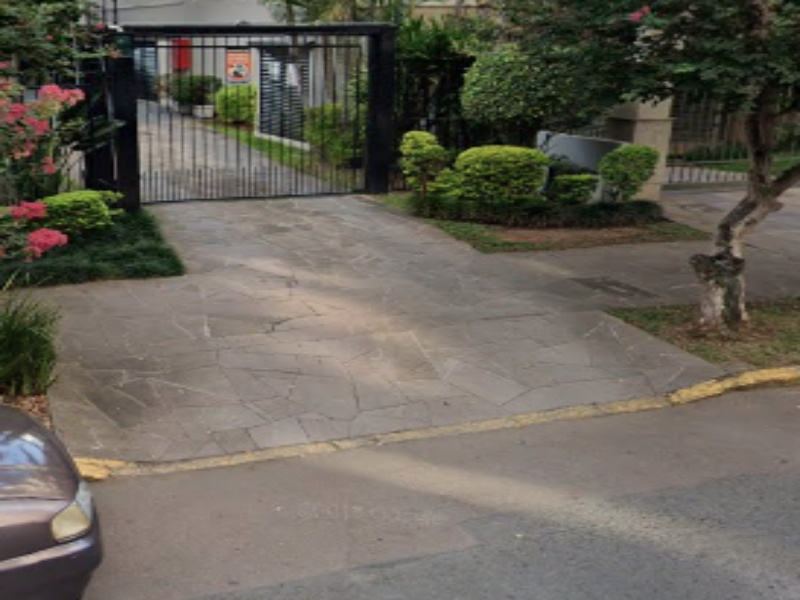g46: (136, 359, 735, 513)
